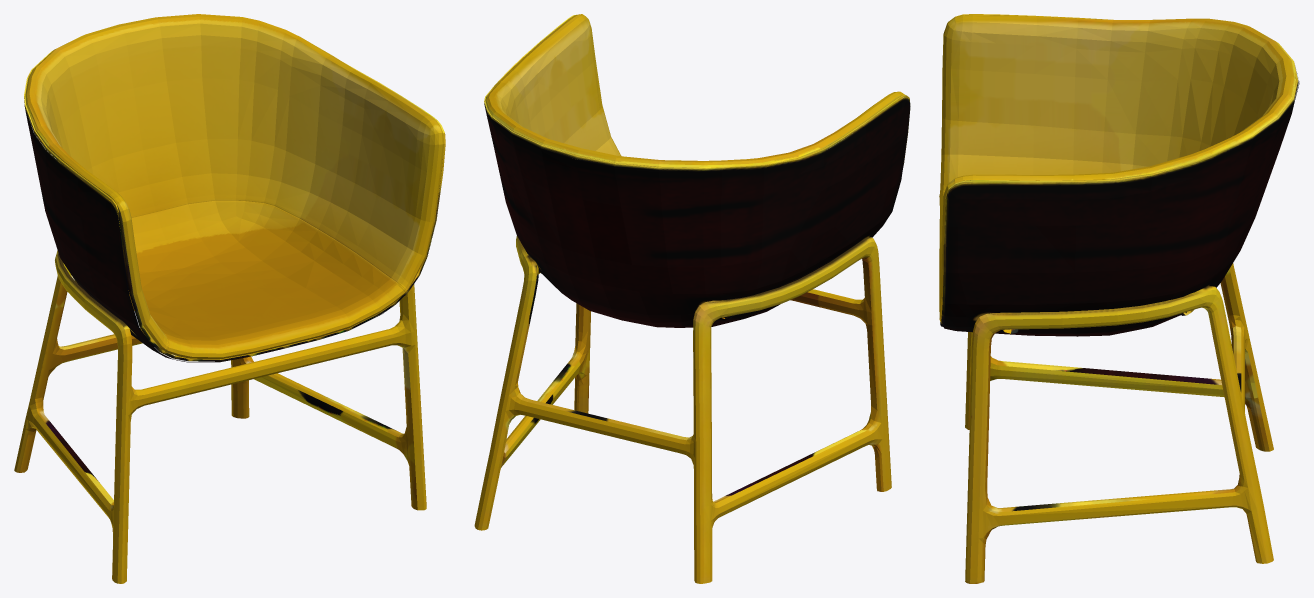
Rendered from edited_mesh.glb.
3 views of the same model, side by side, from view 1: azimuth 30°, elevation 25°; view 2: azimuth 150°, elevation 25°; view 3: azimuth 270°, elevation 25° (orthographic). The views are drawn at different scales.
Parts seen in each view (by area): view 1: normalized_model.obj; view 2: normalized_model.obj; view 3: normalized_model.obj.
Part boxes in pixels (bbox=[...]): normalized_model.obj: bbox=[14, 14, 445, 583]; normalized_model.obj: bbox=[474, 14, 910, 583]; normalized_model.obj: bbox=[939, 14, 1299, 583].
Bounding box in the file's own units: 1.18 × 1.41 × 1.07.
Materials: 1 (1 with a texture image).
